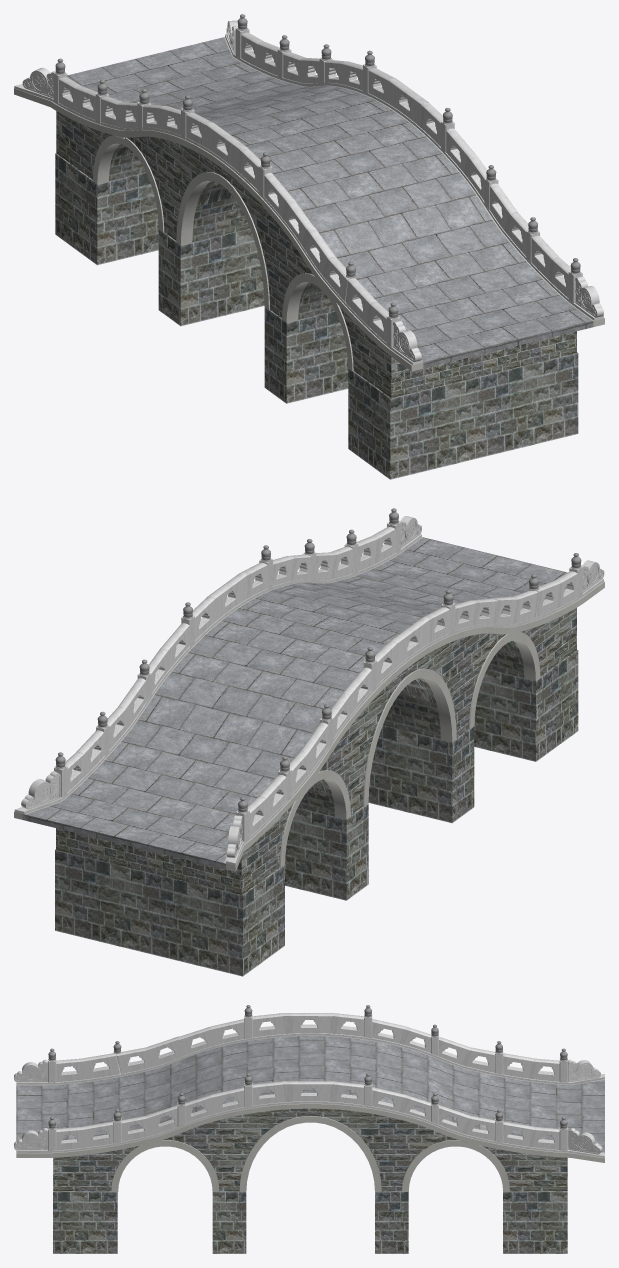
3 renders of one model, top to bottom at view 1: azimuth 30°, elevation 25°; view 2: azimuth 150°, elevation 25°; view 3: azimuth 270°, elevation 25°, orthographic. The views are drawn at different scales.
Parts seen in each view (by area): view 1: Obj3d66-644843-13-534, Obj3d66-644843-9-420, Obj3d66-644843-15-576, Obj3d66-644843-12-819, Obj3d66-644843-10-319, Obj3d66-644843-14-527, Obj3d66-644843-6-492, Cylinder028, Cylinder001, Cylinder021, Cylinder020, 对象001 (+14 smaller); view 2: Obj3d66-644843-13-534, Obj3d66-644843-9-420, Obj3d66-644843-15-576, Obj3d66-644843-12-819, Obj3d66-644843-10-319, Obj3d66-644843-14-527, Obj3d66-644843-6-492, Cylinder001, Cylinder028, 对象002, Cylinder020, Cylinder014 (+12 smaller); view 3: Obj3d66-644843-13-534, Obj3d66-644843-15-576, Obj3d66-644843-9-420, Obj3d66-644843-14-527, Obj3d66-644843-11-143, Obj3d66-644843-6-492, Cylinder028, Cylinder001, Cylinder020, Cylinder022, Cylinder023, Cylinder008 (+28 smaller).
Boxes of the visible parts, box(x1,y1,x2,y2) form: Obj3d66-644843-13-534: box(67, 37, 593, 368); Obj3d66-644843-9-420: box(55, 153, 578, 479); Obj3d66-644843-15-576: box(56, 111, 576, 398); Obj3d66-644843-12-819: box(93, 135, 353, 370); Obj3d66-644843-10-319: box(109, 144, 334, 319); Obj3d66-644843-14-527: box(14, 37, 604, 371); Obj3d66-644843-6-492: box(14, 34, 603, 365); Cylinder028: box(206, 122, 246, 171); Cylinder001: box(388, 78, 428, 127); Cylinder021: box(302, 227, 335, 275); Cylinder020: box(345, 278, 377, 325); 对象001: box(575, 276, 603, 317); Obj3d66-644843-13-534: box(22, 537, 567, 869); Obj3d66-644843-9-420: box(55, 650, 578, 976); Obj3d66-644843-15-576: box(56, 608, 576, 895); Obj3d66-644843-12-819: box(279, 632, 540, 867); Obj3d66-644843-10-319: box(298, 641, 524, 816); Obj3d66-644843-14-527: box(14, 537, 604, 871); Obj3d66-644843-6-492: box(14, 534, 603, 865); Cylinder001: box(207, 573, 247, 620); Cylinder028: box(389, 617, 429, 665); 对象002: box(21, 771, 60, 809); Cylinder020: box(535, 580, 560, 617); Cylinder014: box(118, 678, 145, 724); Obj3d66-644843-13-534: box(16, 1036, 604, 1152); Obj3d66-644843-15-576: box(53, 1108, 567, 1191); Obj3d66-644843-9-420: box(53, 1157, 567, 1253); Obj3d66-644843-14-527: box(16, 1035, 604, 1162); Obj3d66-644843-11-143: box(111, 1116, 509, 1191); Obj3d66-644843-6-492: box(16, 1033, 604, 1157); Cylinder028: box(283, 1013, 333, 1033); Cylinder001: box(283, 1081, 333, 1102); Cylinder020: box(82, 1053, 119, 1079); Cylinder022: box(116, 1047, 154, 1073); Cylinder023: box(252, 1013, 285, 1037); Cylinder008: box(252, 1081, 285, 1105).
Size of the model in its own units: 573 by 577 by 1724.
